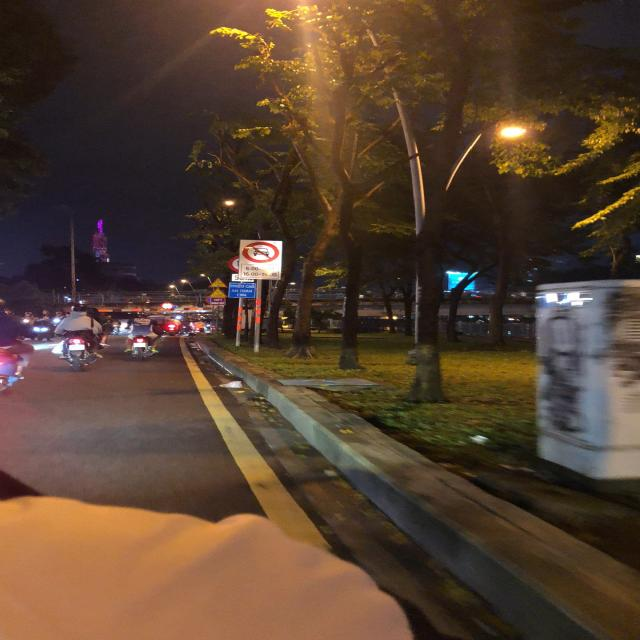Bien bao cam xe oto: (242, 240, 281, 264)
